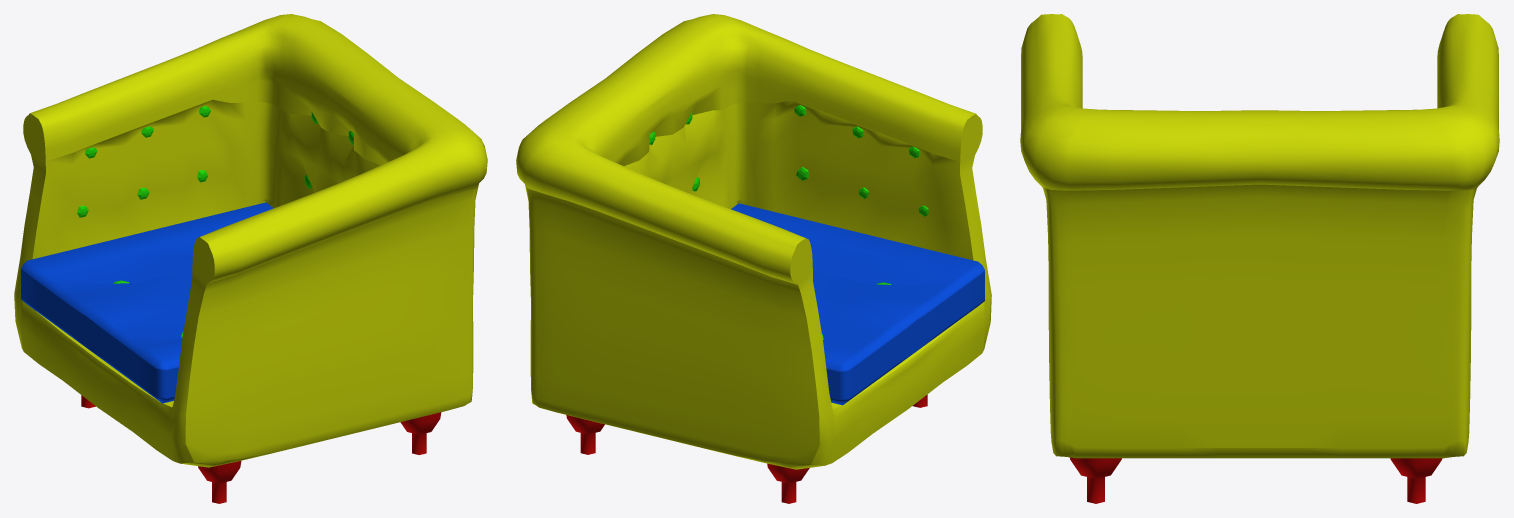
Rendered from MESH_Sofa.fbx.
3 views of the same model, side by side, from view 1: azimuth 30°, elevation 25°; view 2: azimuth 150°, elevation 25°; view 3: azimuth 270°, elevation 25° (orthographic). The views are drawn at different scales.
Visible parts, largest first — view 1: MESH_Sofa8; view 2: MESH_Sofa8; view 3: MESH_Sofa8.
Boxes of the visible parts, <box> form: MESH_Sofa8: <box>14,14,487,503</box>; MESH_Sofa8: <box>516,14,991,503</box>; MESH_Sofa8: <box>1020,14,1499,503</box>.
Bounding box in the file's own units: 1.61 × 1.55 × 1.7.
